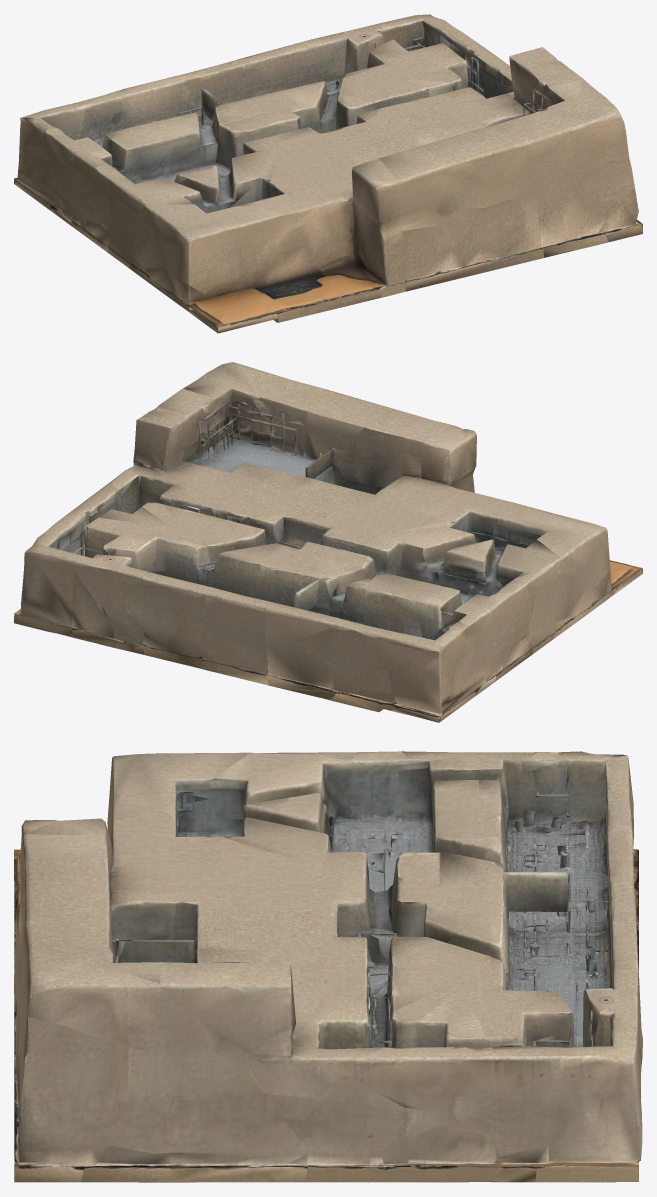
The model's file is tripo-obra-model2.glb.
The picture shows the model from 3 angles, top to bottom: view 1: azimuth 30°, elevation 25°; view 2: azimuth 150°, elevation 25°; view 3: azimuth 270°, elevation 25°; orthographic projection. The views are drawn at different scales.
Parts seen in each view (by area): view 1: model2_mesh.glb; view 2: model2_mesh.glb; view 3: model2_mesh.glb.
Boxes of the visible parts, x1,y1,x2,y2 form: model2_mesh.glb: [14, 14, 642, 333]; model2_mesh.glb: [14, 362, 642, 722]; model2_mesh.glb: [14, 751, 642, 1182].
Bounding box in the file's own units: 1.08 × 0.3 × 0.9025.
Materials: 1 (1 with a texture image).
